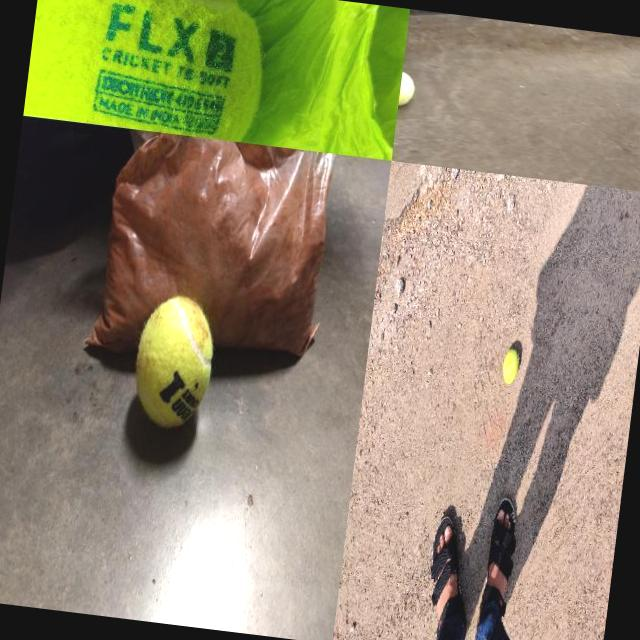Tennis Ball: (22, 0, 274, 143), (127, 290, 219, 432), (398, 70, 417, 109), (501, 346, 520, 384)
